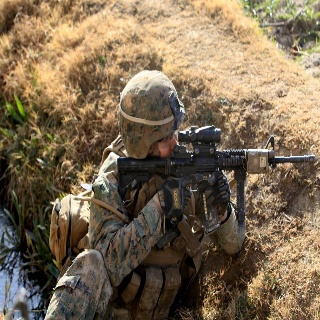rifle: (114, 124, 315, 225)
